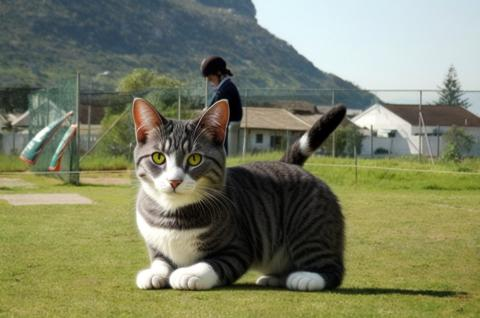cat: (131, 96, 346, 290)
person: (195, 57, 258, 212)
